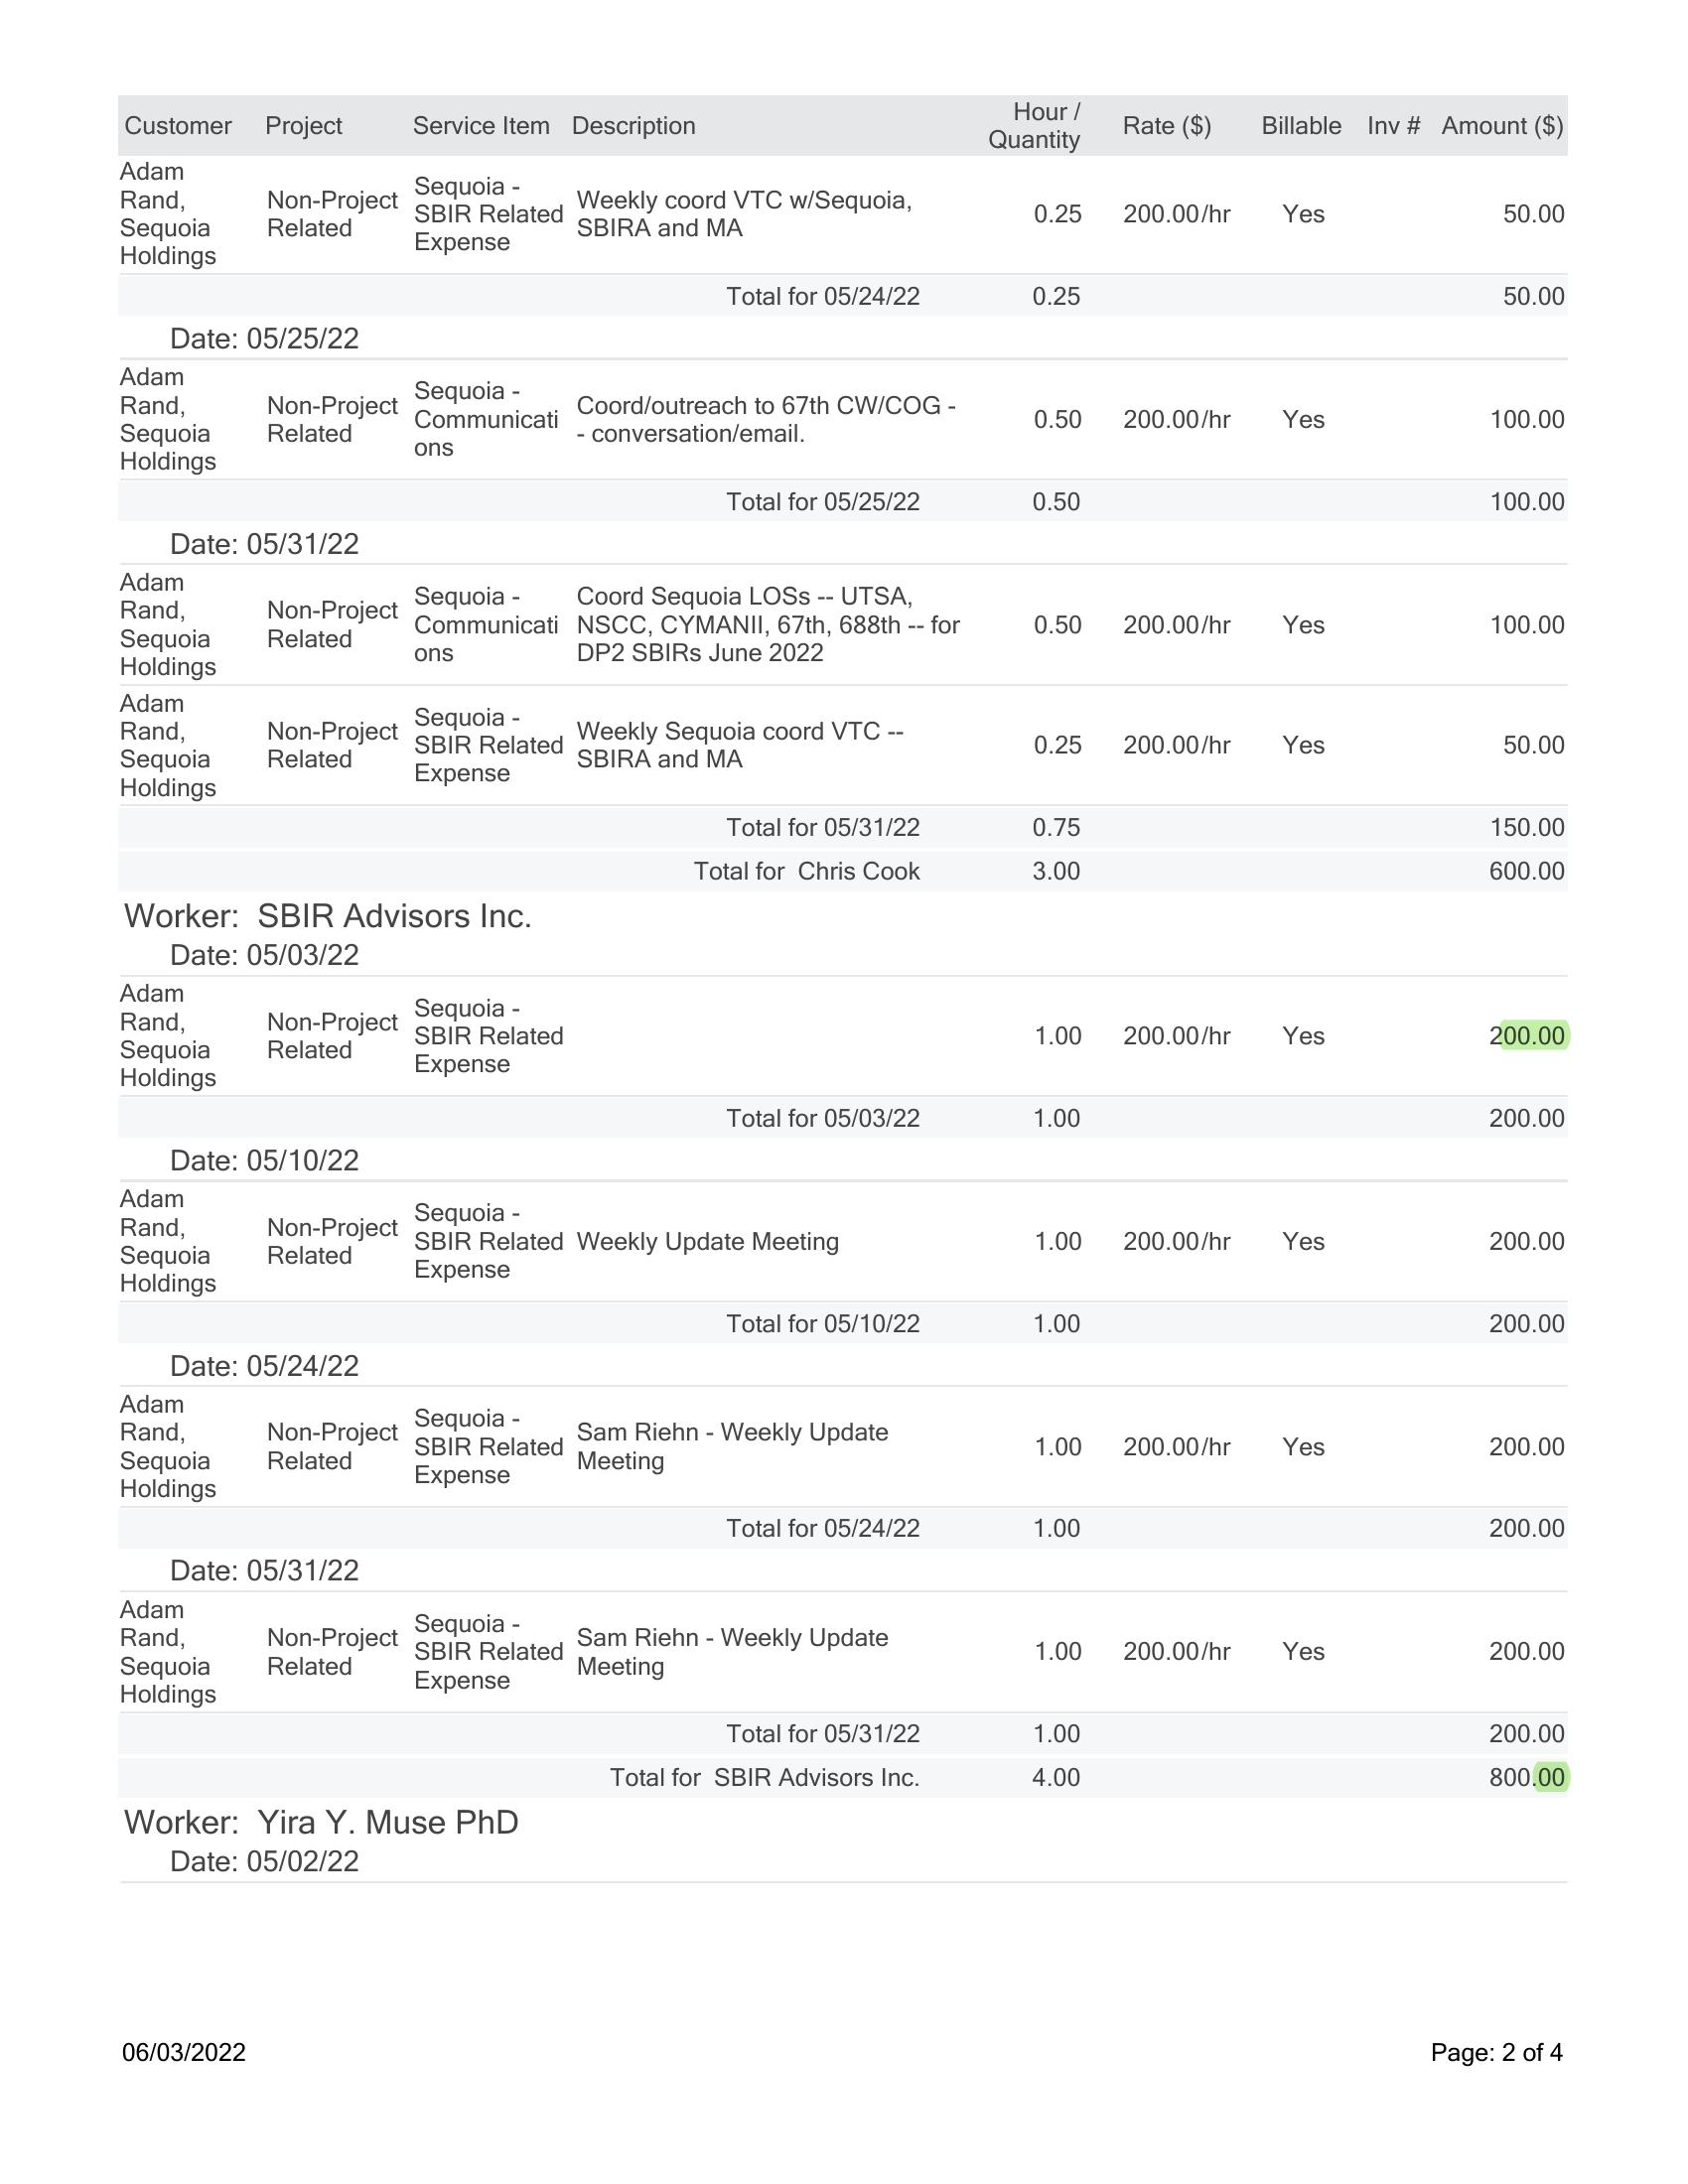table: (106, 557, 1617, 901), (105, 82, 1606, 319), (112, 1585, 1612, 1799), (105, 353, 1614, 526), (117, 1177, 1614, 1351), (117, 980, 1635, 1147), (115, 1386, 1603, 1553)
